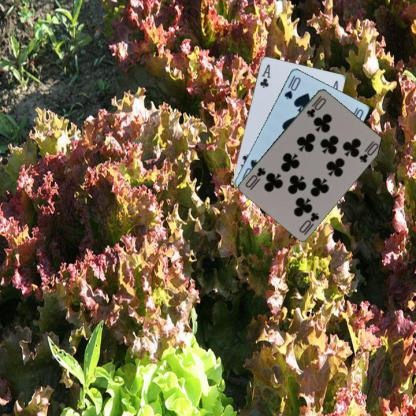10c: (296, 209, 321, 236), (304, 92, 328, 118)
10s: (282, 74, 302, 100)
Ac: (257, 61, 272, 89)
